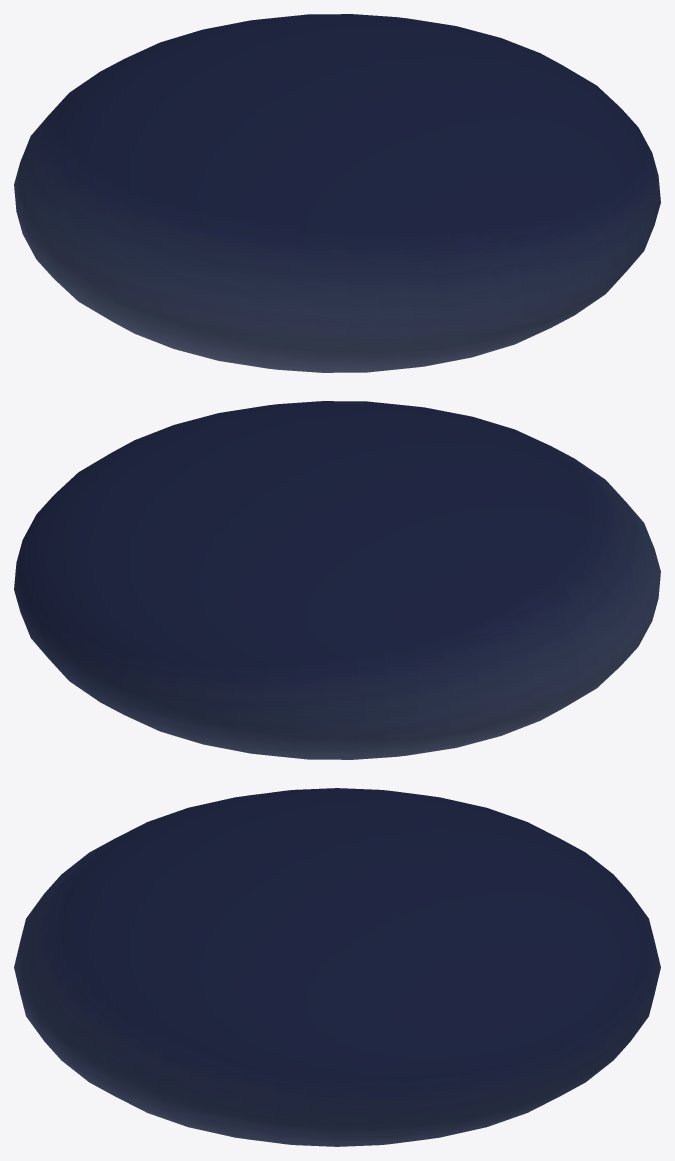
Rendered from coffee_break-transformed.glb.
3 views of the same model, one above another, from view 1: azimuth 30°, elevation 25°; view 2: azimuth 150°, elevation 25°; view 3: azimuth 270°, elevation 25° (orthographic).
Visible parts, largest first — view 1: Object_4; view 2: Object_4; view 3: Object_4.
Part boxes in pixels (x1,y1,x2,y2): Object_4: (14,14,660,372); Object_4: (14,401,660,759); Object_4: (14,788,660,1146).
Size of the model in its own units: 397 by 159 by 397.
3 materials, 3 textured.
